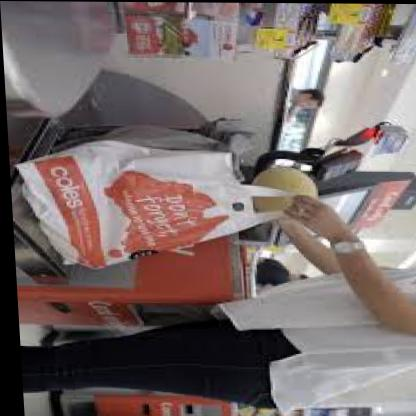Plastic: (21, 109, 319, 259)
